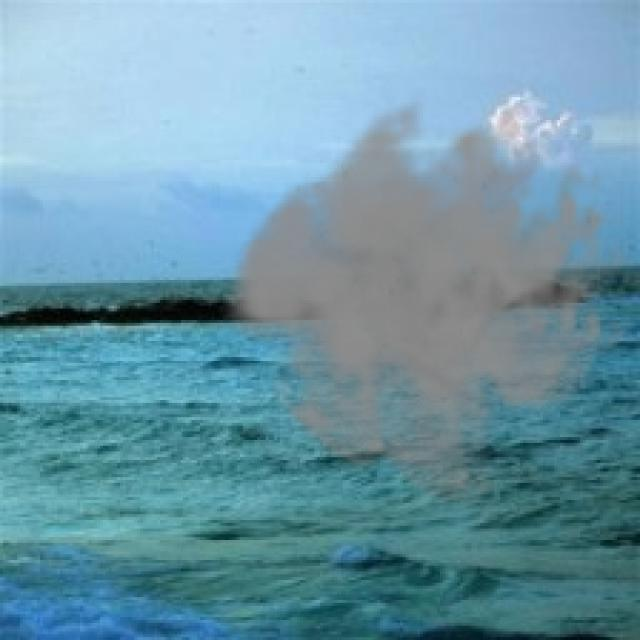smoke: (220, 86, 631, 511)
